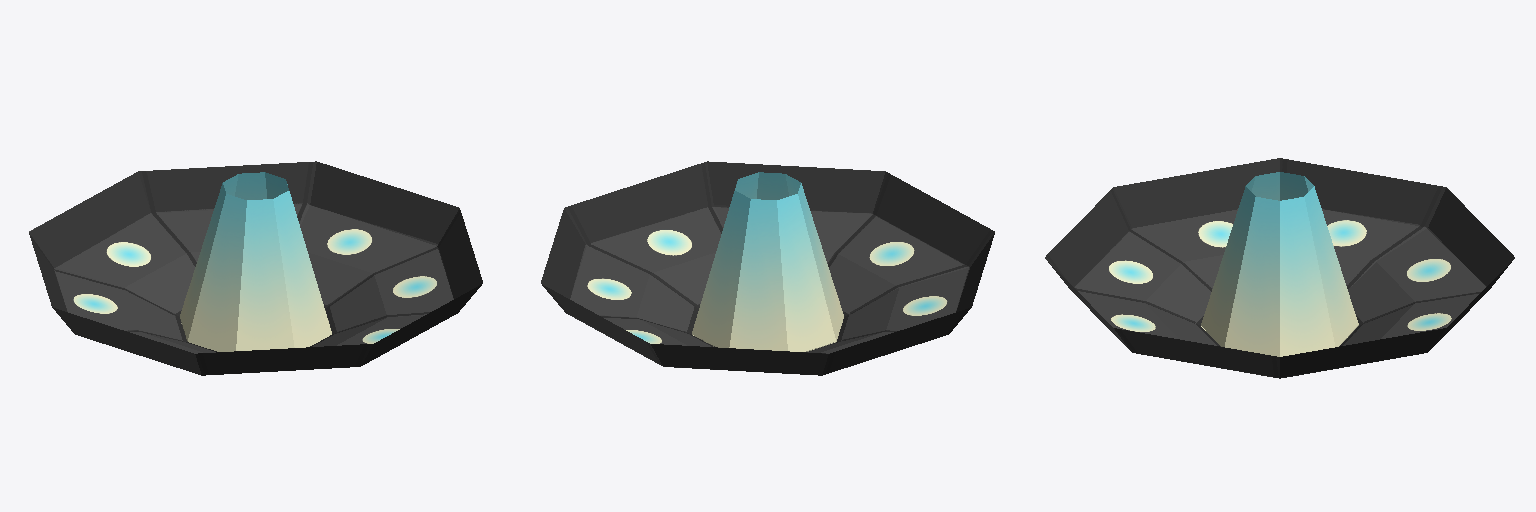
3 renders of one model, left to right at view 1: azimuth 30°, elevation 25°; view 2: azimuth 150°, elevation 25°; view 3: azimuth 270°, elevation 25°, orthographic.
Visible parts, largest first — view 1: Circle.006; view 2: Circle.006; view 3: Circle.006.
Part boxes in pixels (x1,y1,x2,y2): Circle.006: (29, 161, 482, 375); Circle.006: (541, 161, 994, 375); Circle.006: (1045, 158, 1514, 378).
Bounding box in the file's own units: 100 × 32.74 × 100.
1 materials, 1 textured.